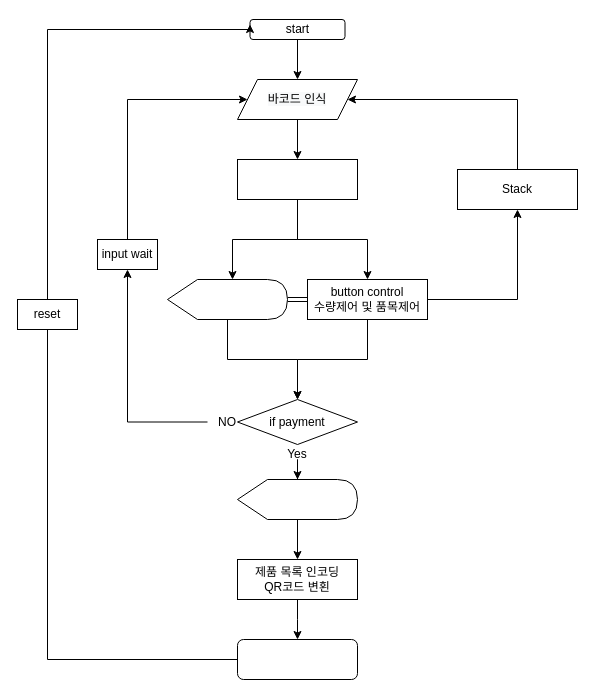
This 595x697 diagram has some shape labels left out. Here are the shapes that lost their labels. From the top down, the centre of each, then its label:
At [297,179]: "바코드정보 Decode".
At [227,299]: "장바구니 정보 GUI Display".
At [297,499]: "결제창 전환".
At [297,659]: "결제완료 end".
